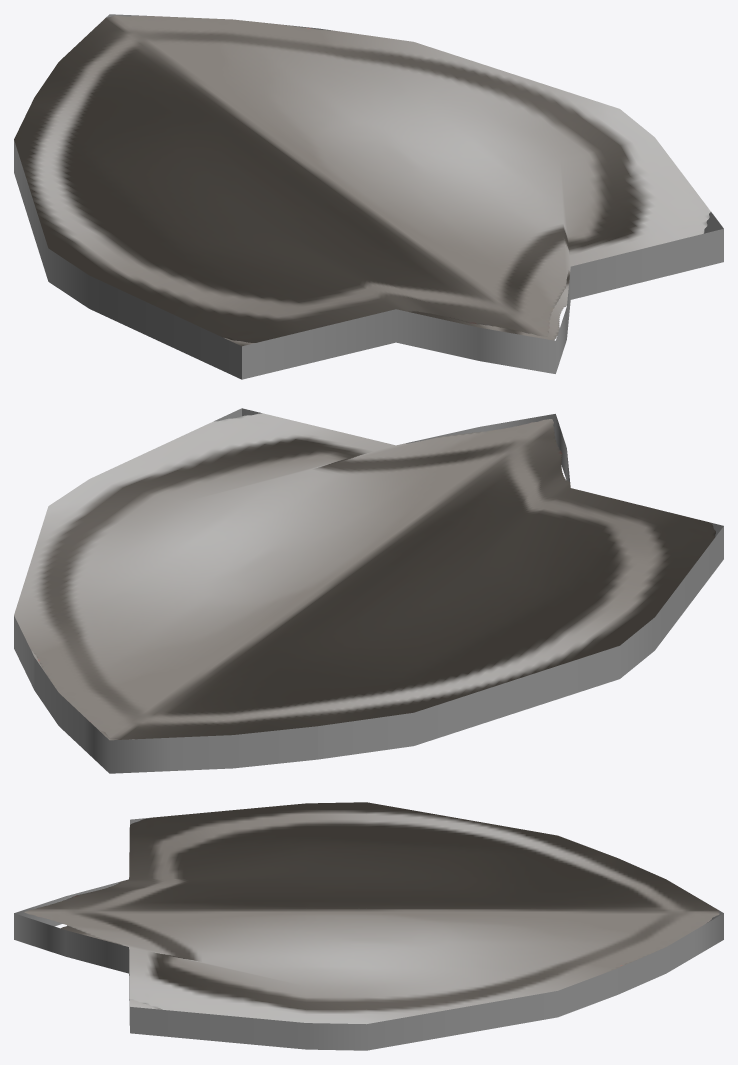
Rendered from shield.fbx.
3 views of the same model, one above another, from view 1: azimuth 30°, elevation 25°; view 2: azimuth 150°, elevation 25°; view 3: azimuth 270°, elevation 25° (orthographic). The views are drawn at different scales.
Parts seen in each view (by area): view 1: pCube1; view 2: pCube1; view 3: pCube1.
Part boxes in pixels (<box>): pCube1: <box>14,14,723,379</box>; pCube1: <box>14,408,723,773</box>; pCube1: <box>14,802,723,1050</box>.
Size of the model in its own units: 27.57 by 1.54 by 37.27.
2 materials, 1 textured.
